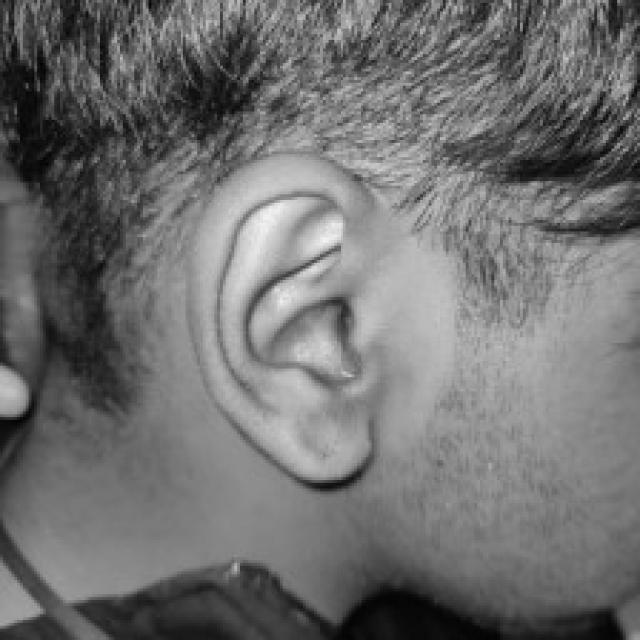ear: (186, 151, 377, 480)
